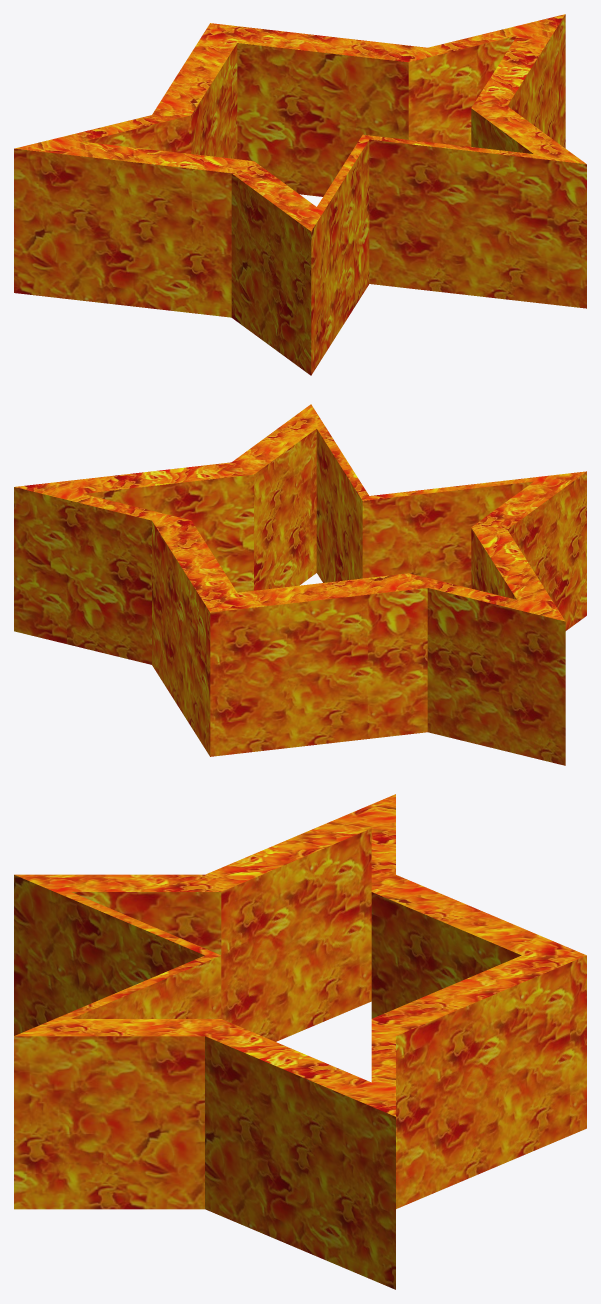
The model's file is StarPlayObject.FBX.
3 renders of one model, top to bottom at view 1: azimuth 30°, elevation 25°; view 2: azimuth 150°, elevation 25°; view 3: azimuth 270°, elevation 25°, orthographic. The views are drawn at different scales.
Parts seen in each view (by area): view 1: Line003; view 2: Line003; view 3: Line003.
Boxes of the visible parts, x1=… form: Line003: x1=14, y1=14, x2=586, y2=375; Line003: x1=14, y1=404, x2=586, y2=765; Line003: x1=14, y1=794, x2=586, y2=1289.
Size of the model in its own units: 50.84 by 12.71 by 38.13.
Materials: 1 (1 with a texture image).
